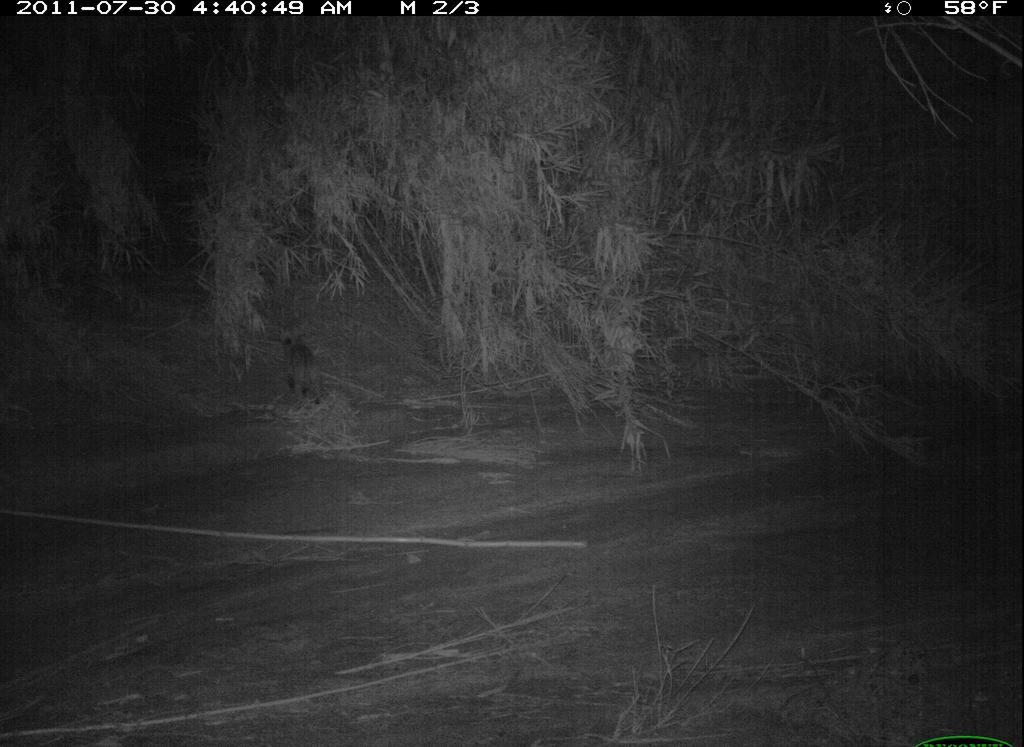bobcat: (273, 328, 330, 412)
